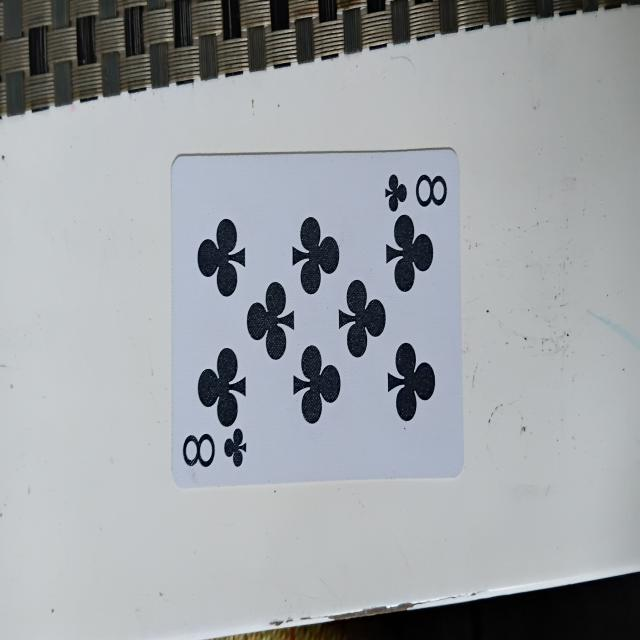8C: (170, 144, 459, 488)
